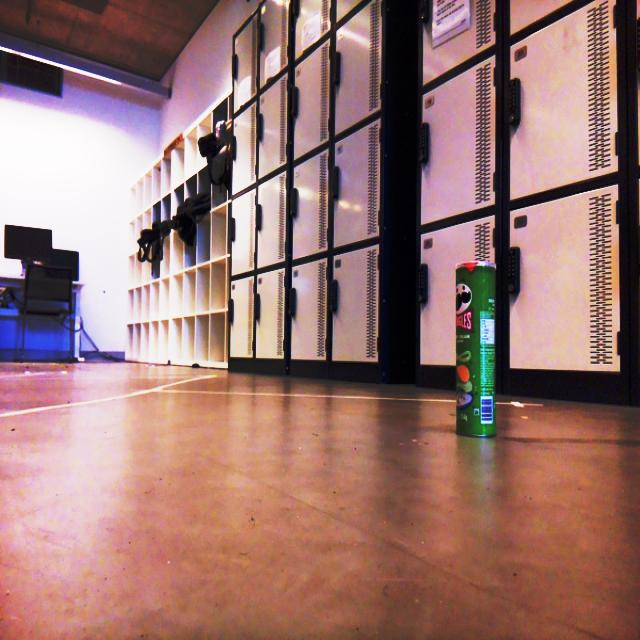greenpringles: (434, 240, 525, 457)
